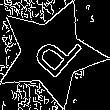P_SW: (20, 22, 82, 85)
